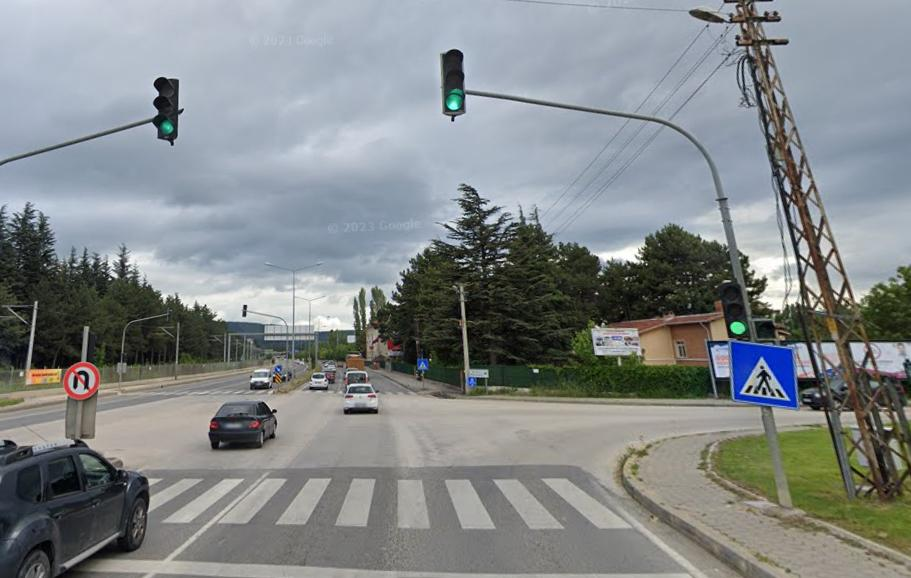greenlight: (158, 77, 179, 137)
